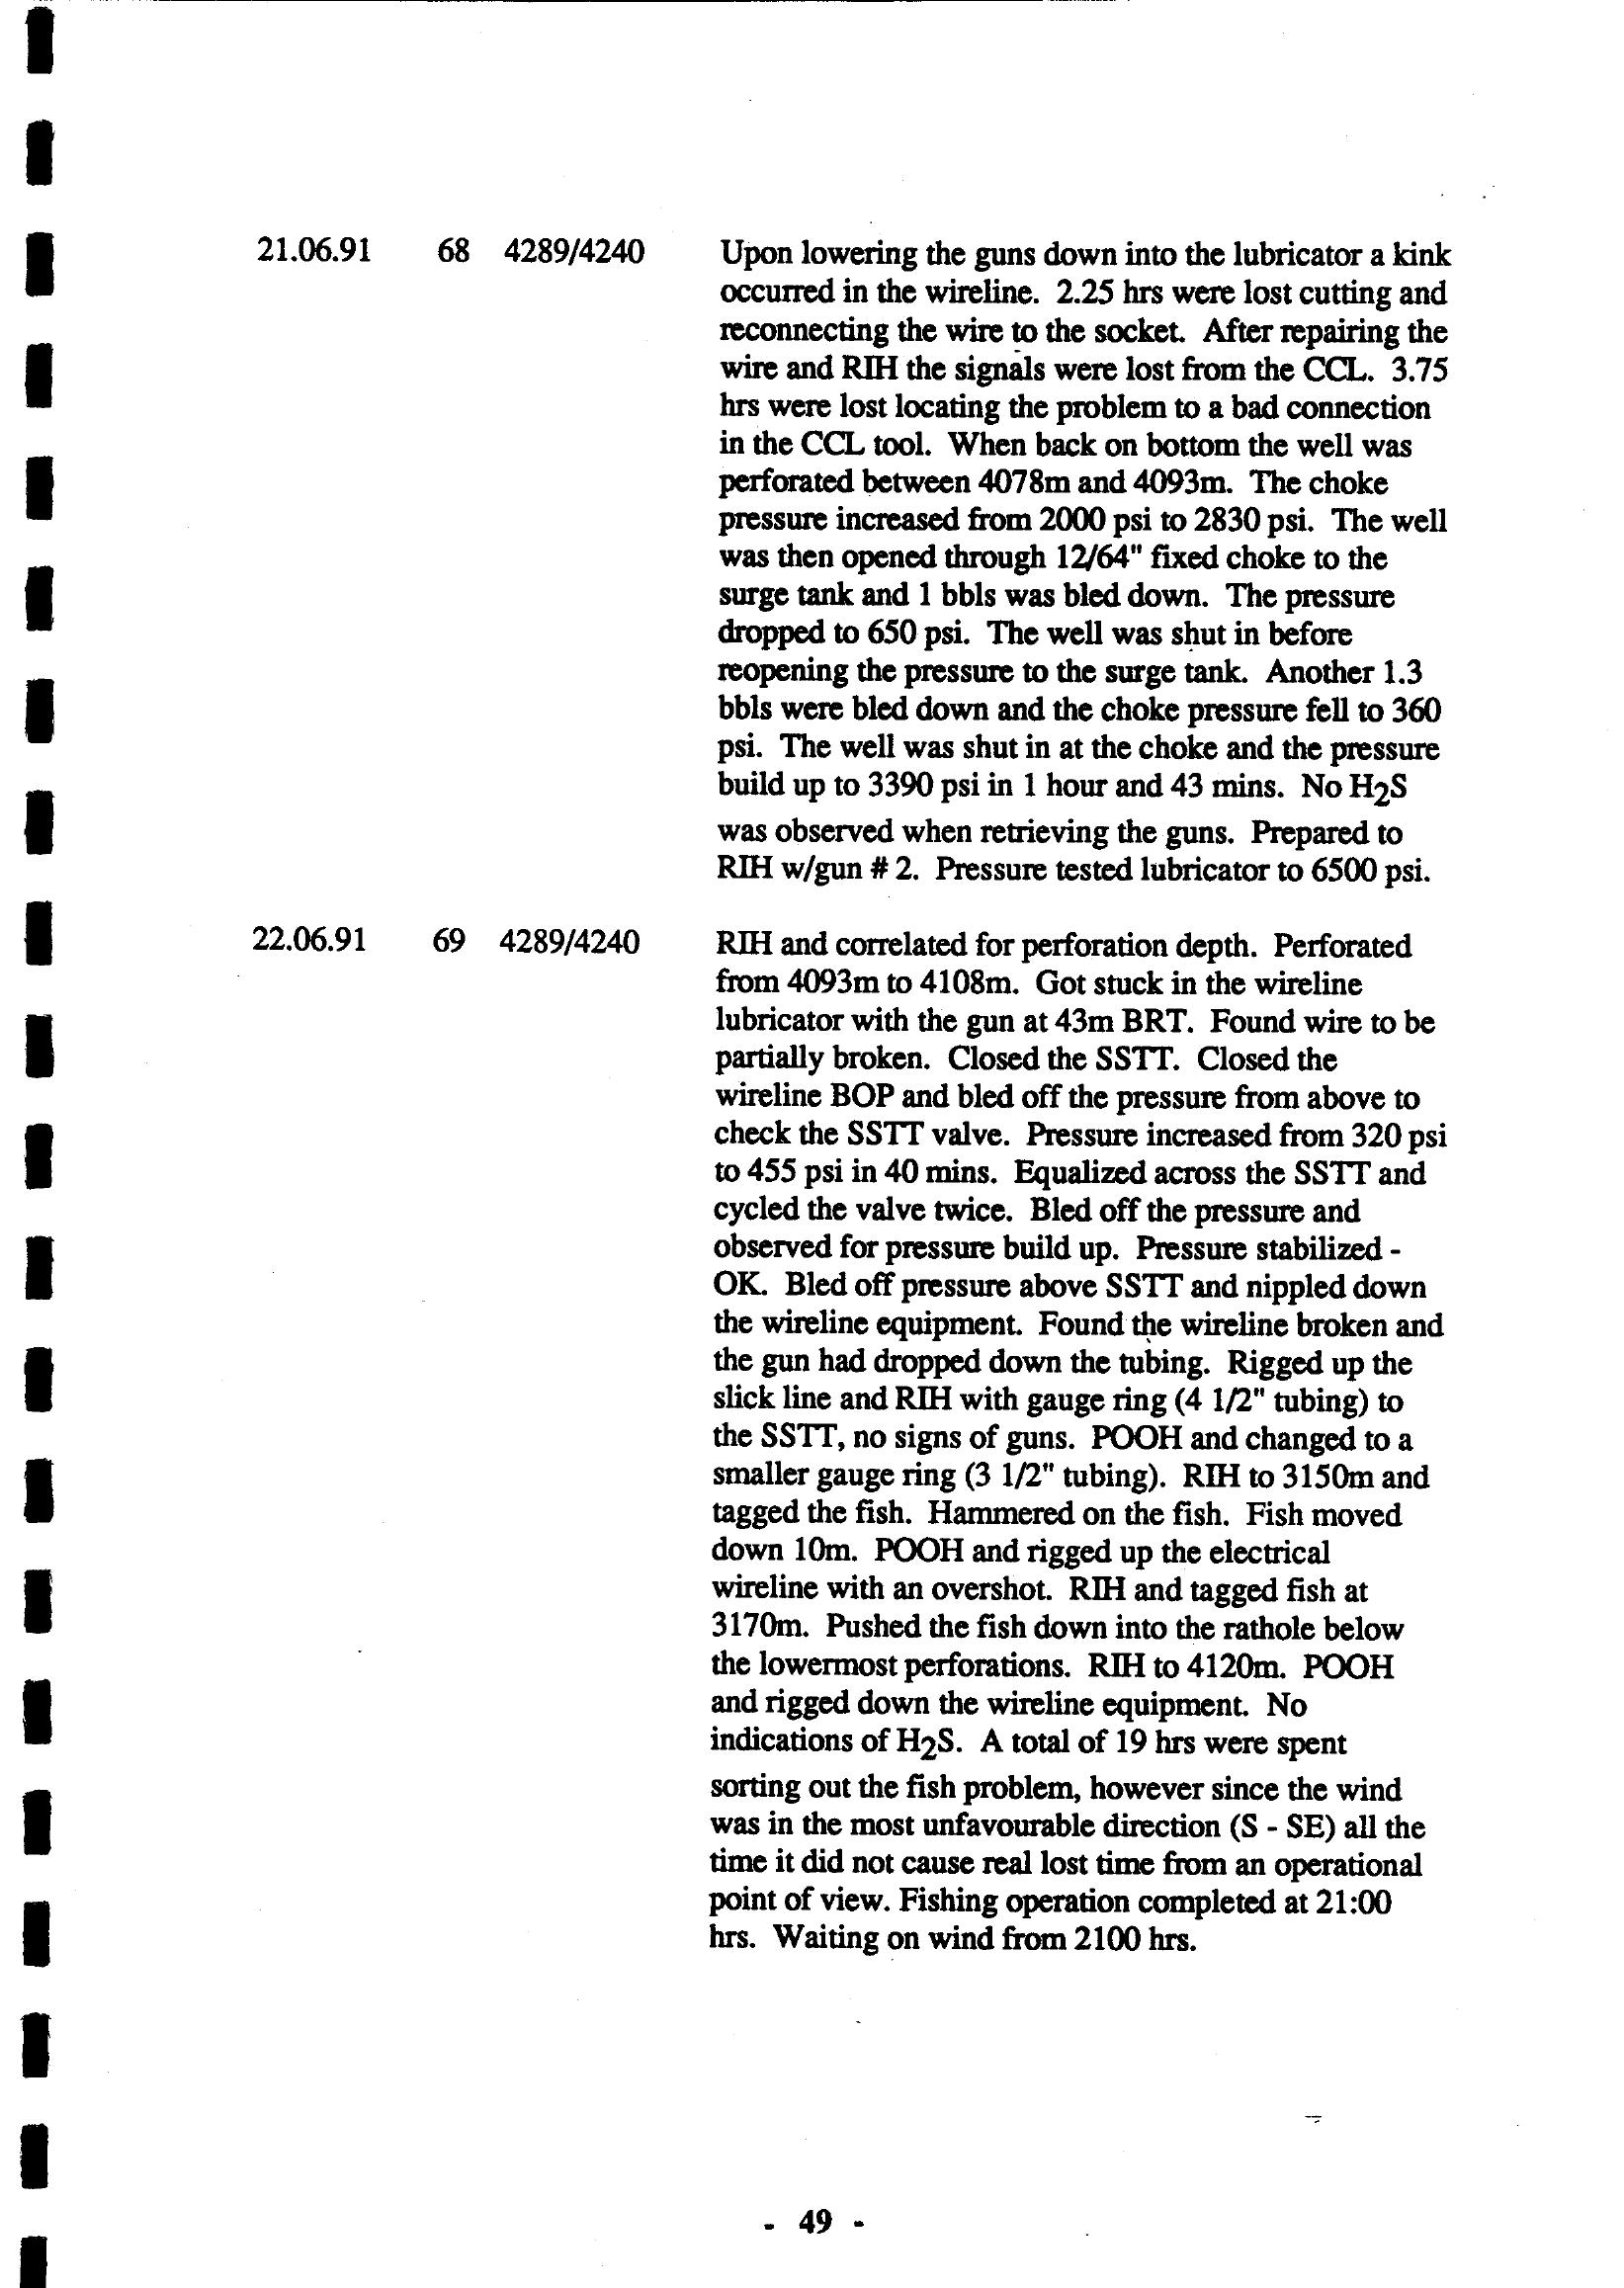text: (197, 185, 1492, 2014)
